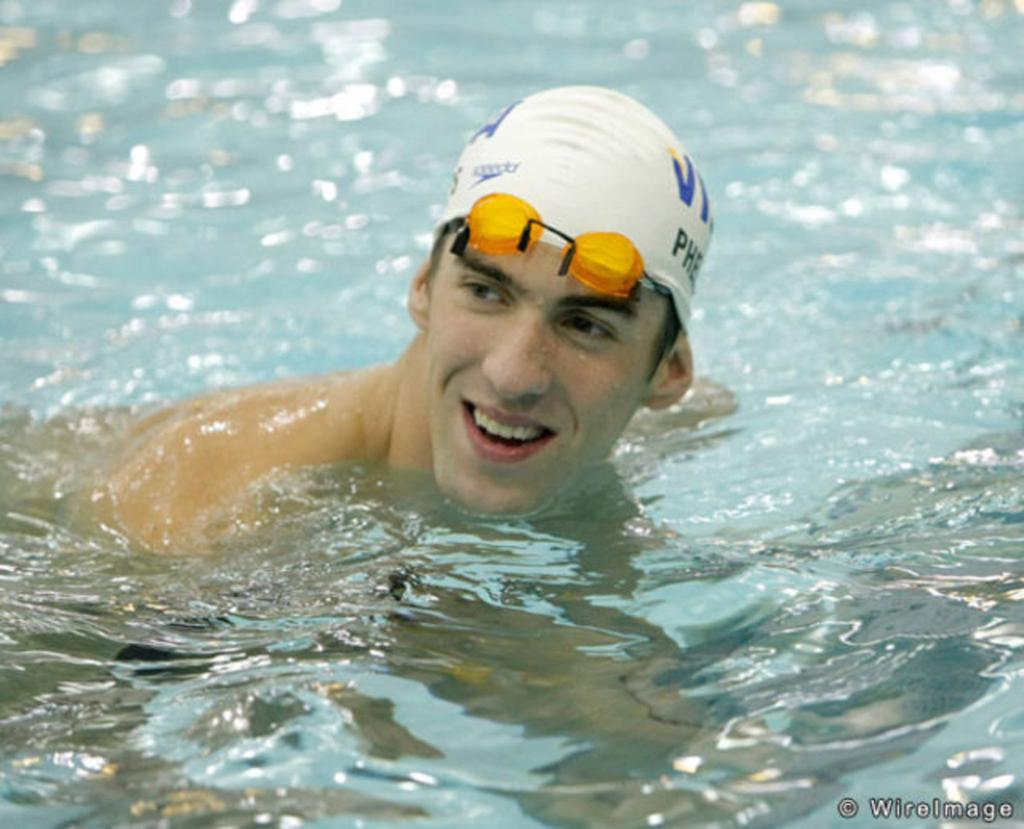face: (430, 202, 634, 512)
